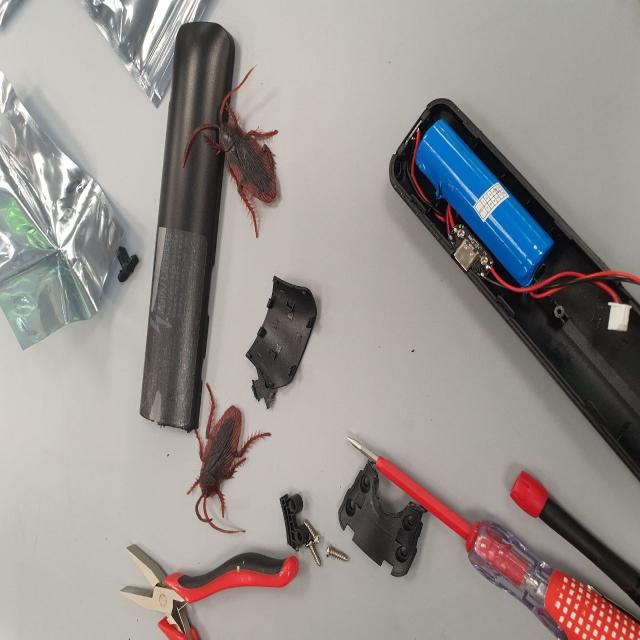Cockroach: (179, 69, 283, 225), (182, 373, 272, 536)
